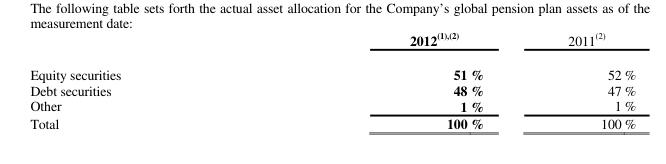table: (29, 29, 635, 133)
table column: (264, 29, 525, 133), (29, 29, 264, 133), (525, 29, 635, 133)
table column header: (29, 29, 635, 56)
table row: (29, 29, 635, 56), (29, 56, 635, 81), (29, 114, 635, 133), (29, 97, 635, 114), (29, 81, 635, 97)
